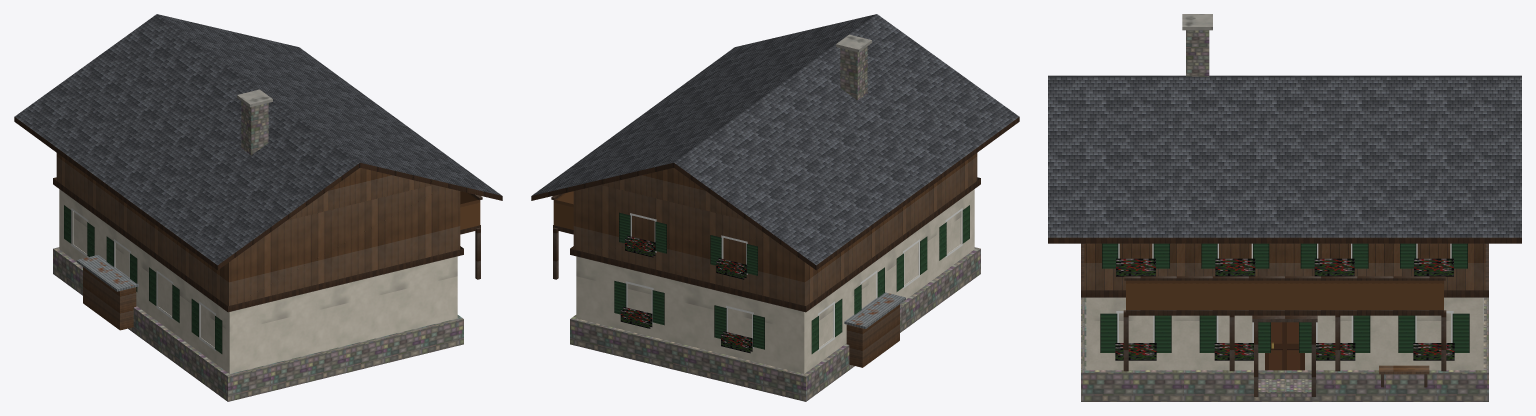
The model's file is chalet2.fbx.
3 renders of one model, left to right at view 1: azimuth 30°, elevation 25°; view 2: azimuth 150°, elevation 25°; view 3: azimuth 270°, elevation 25°, orthographic. The views are drawn at different scales.
Visible parts, largest first — view 1: chalet2; view 2: chalet2; view 3: chalet2.
Part boxes in pixels (x1,y1,x2,y2): chalet2: [14, 14, 502, 401]; chalet2: [531, 14, 1019, 401]; chalet2: [1048, 14, 1521, 401].
Bounding box in the file's own units: 11.1 × 8.89 × 13.12.
Materials: 15 (14 with a texture image).
